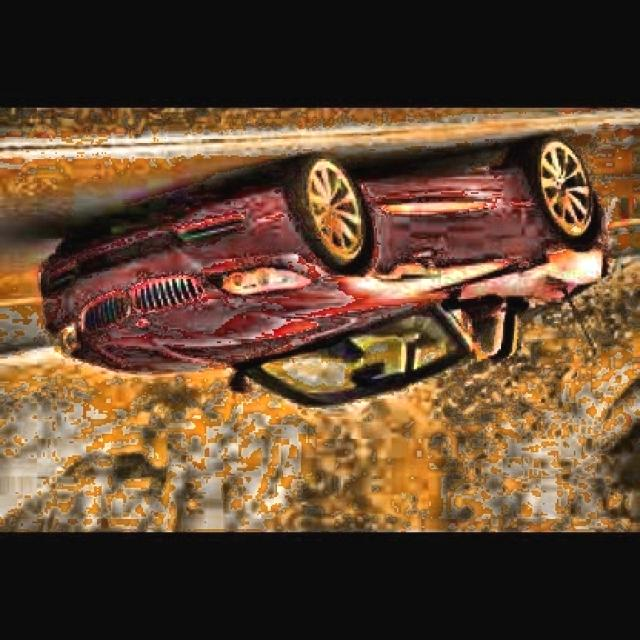maroon: (42, 149, 608, 417)
